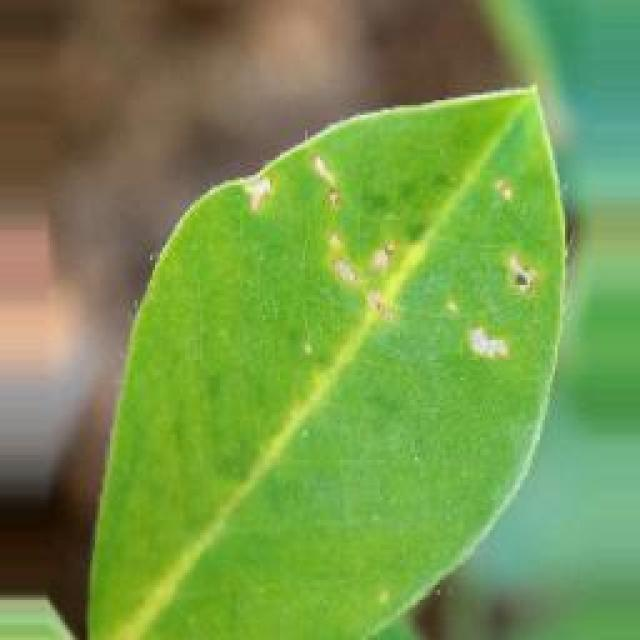Yellow_and_black_sigatoka: (92, 62, 572, 640)
